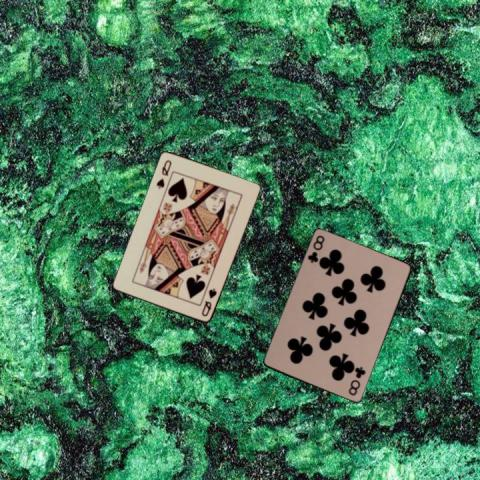8c: (346, 364, 368, 397), (305, 232, 326, 264)
Qs: (154, 157, 174, 190), (199, 285, 218, 318)
